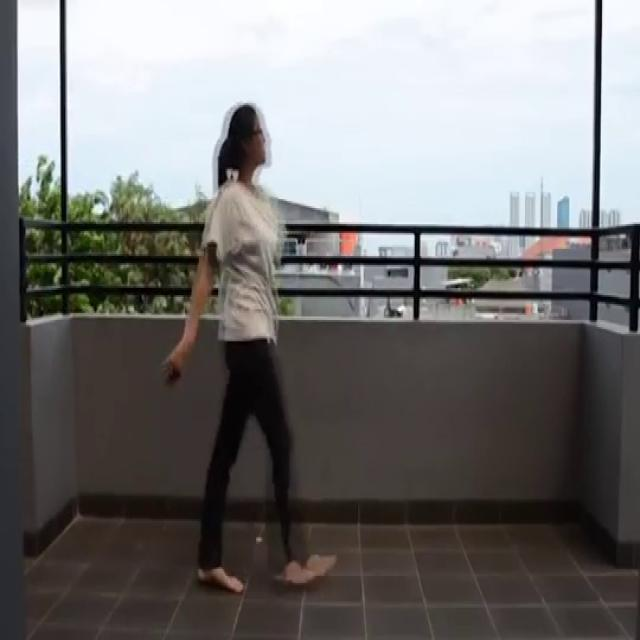normal: (159, 90, 341, 596)
